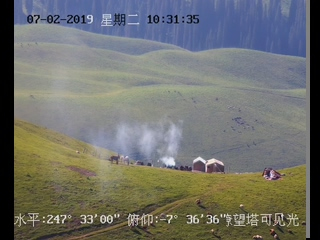smoke: (96, 116, 183, 167)
